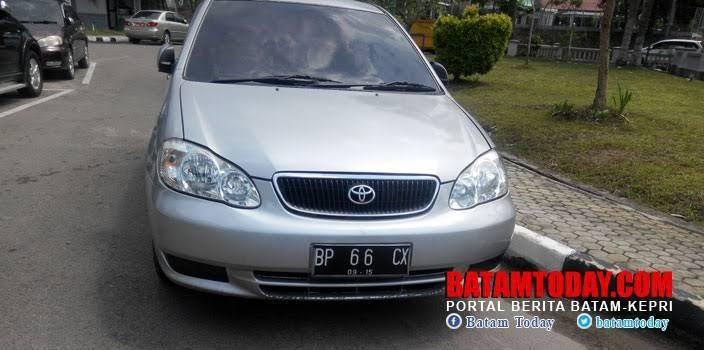plate: (309, 244, 412, 281)
